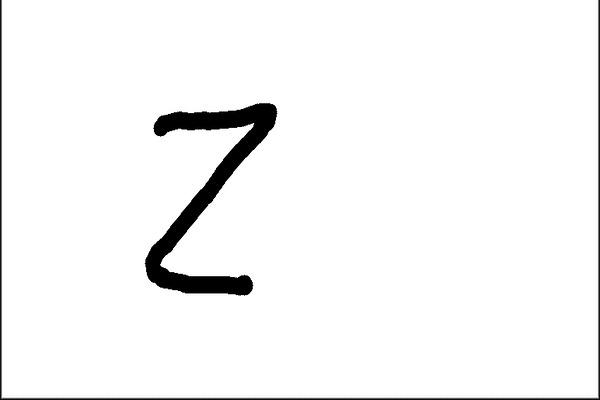Z: (134, 99, 278, 299)
